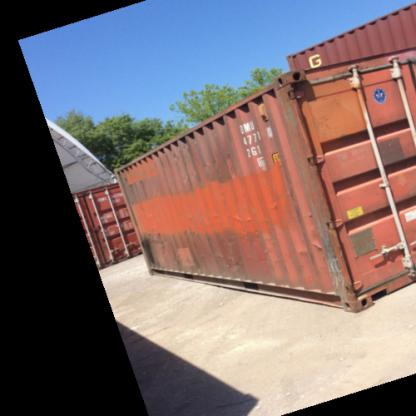Damage: (306, 89, 364, 142), (185, 152, 238, 180), (136, 230, 163, 271), (212, 249, 246, 271), (295, 232, 323, 258), (120, 173, 146, 199), (266, 188, 283, 215), (224, 215, 254, 227), (187, 243, 198, 274), (167, 246, 180, 272), (156, 150, 180, 164), (257, 242, 272, 264), (202, 226, 212, 248), (302, 205, 315, 220)
